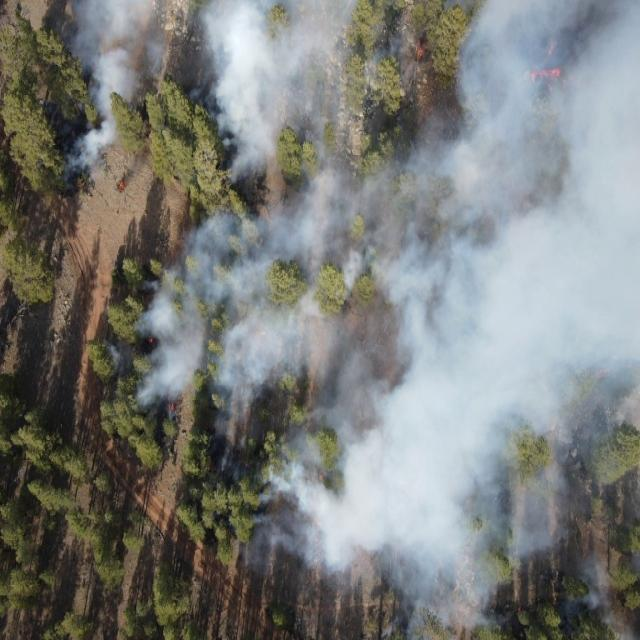fire: (528, 69, 564, 83), (413, 34, 429, 62), (542, 40, 560, 60), (76, 178, 89, 192), (317, 471, 327, 485), (117, 180, 127, 190), (168, 400, 178, 410), (516, 604, 525, 614), (148, 336, 156, 344)
smoke: (247, 186, 640, 640), (186, 0, 640, 185), (102, 209, 246, 411), (58, 0, 174, 198), (210, 410, 246, 489)
